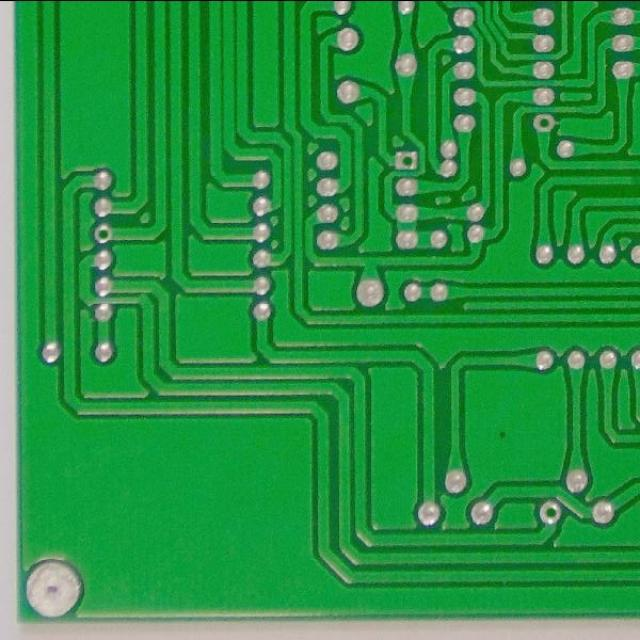Missing_Hole: (536, 499, 564, 527), (392, 147, 419, 172), (531, 112, 557, 134), (92, 223, 115, 244)
